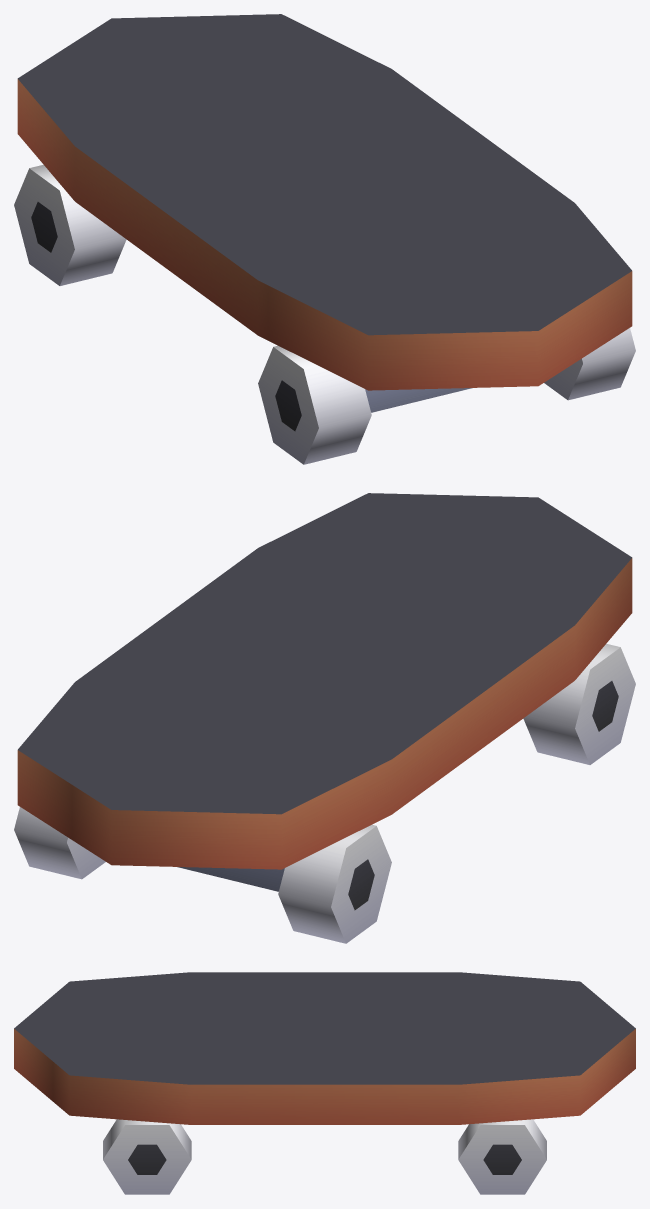
File: Skateboard.fbx
The picture shows the model from 3 angles, top to bottom: view 1: azimuth 30°, elevation 25°; view 2: azimuth 150°, elevation 25°; view 3: azimuth 270°, elevation 25°; orthographic projection. The views are drawn at different scales.
Parts seen in each view (by area): view 1: skateboard; view 2: skateboard; view 3: skateboard.
Part boxes in pixels (x1,y1,x2,y2): skateboard: (14,14,635,464); skateboard: (14,493,635,943); skateboard: (14,972,635,1194).
Size of the model in its own units: 0.3 by 0.1366 by 0.7.
Materials: 1 (1 with a texture image).
